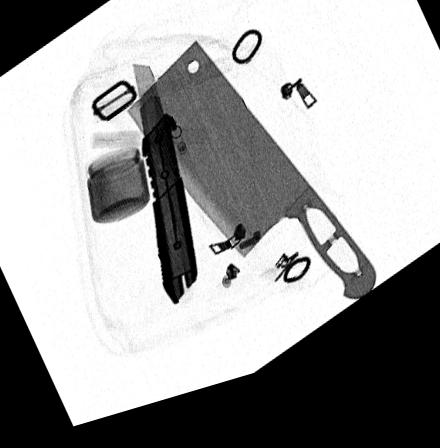Knife: (125, 49, 377, 320), (131, 70, 198, 314)
